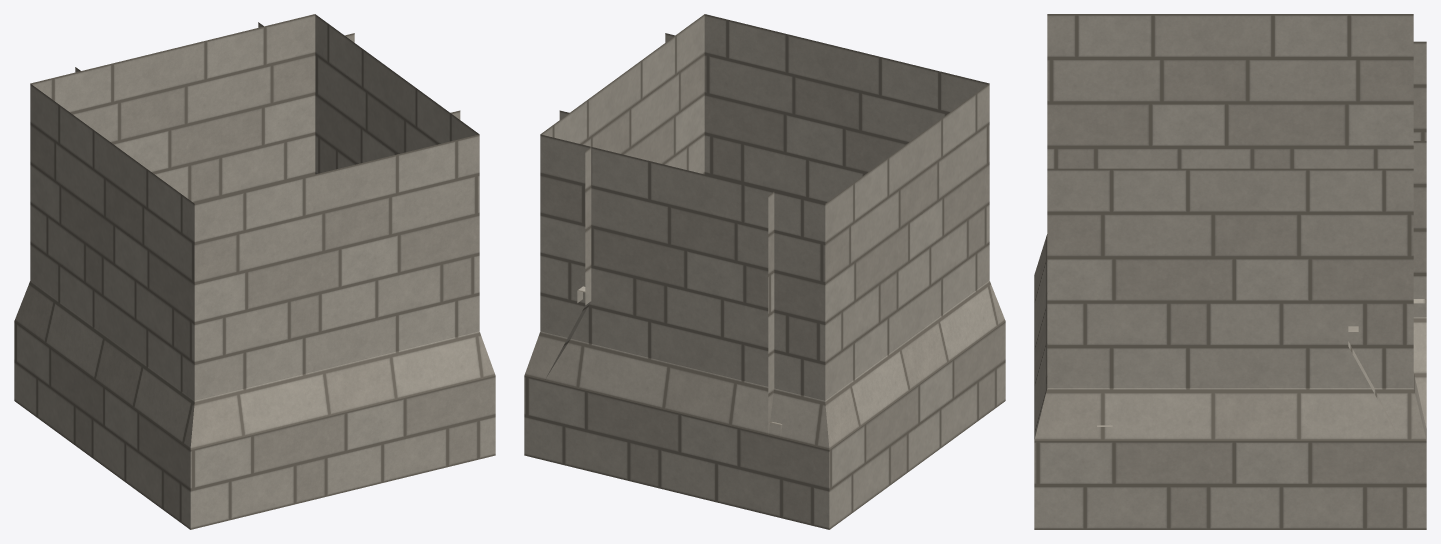
Rendered from Tower_Base_Concave.fbx.
3 renders of one model, left to right at view 1: azimuth 30°, elevation 25°; view 2: azimuth 150°, elevation 25°; view 3: azimuth 270°, elevation 25°, orthographic. The views are drawn at different scales.
Visible parts, largest first — view 1: Tower_Base_Concave; view 2: Tower_Base_Concave; view 3: Tower_Base_Concave.
Part boxes in pixels (left/top/right/bottom): Tower_Base_Concave: left=14, top=14, right=495, bottom=529; Tower_Base_Concave: left=524, top=14, right=1005, bottom=529; Tower_Base_Concave: left=1034, top=14, right=1426, bottom=529.
Bounding box in the file's own units: 3 × 3 × 3.
1 material, 1 textured.
